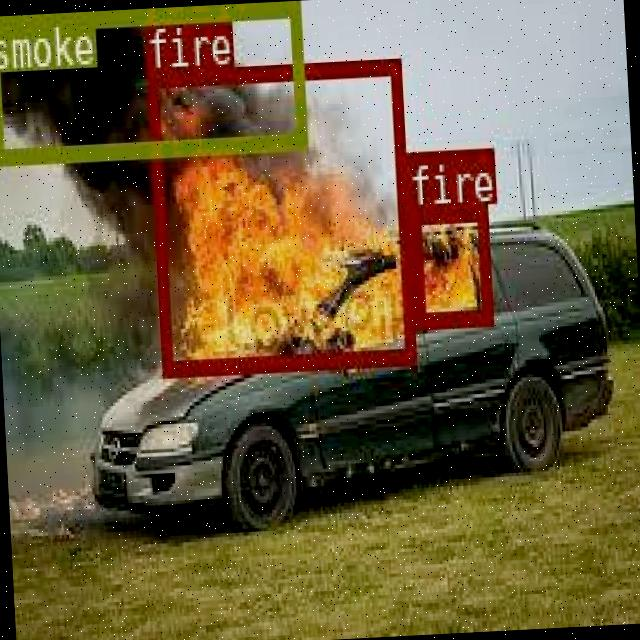fire: (146, 58, 414, 372), (408, 202, 491, 326)
smoke: (0, 1, 305, 160)
